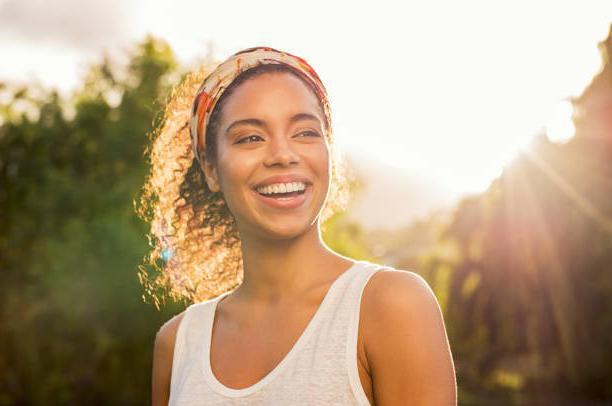Sober: (223, 89, 327, 230)
